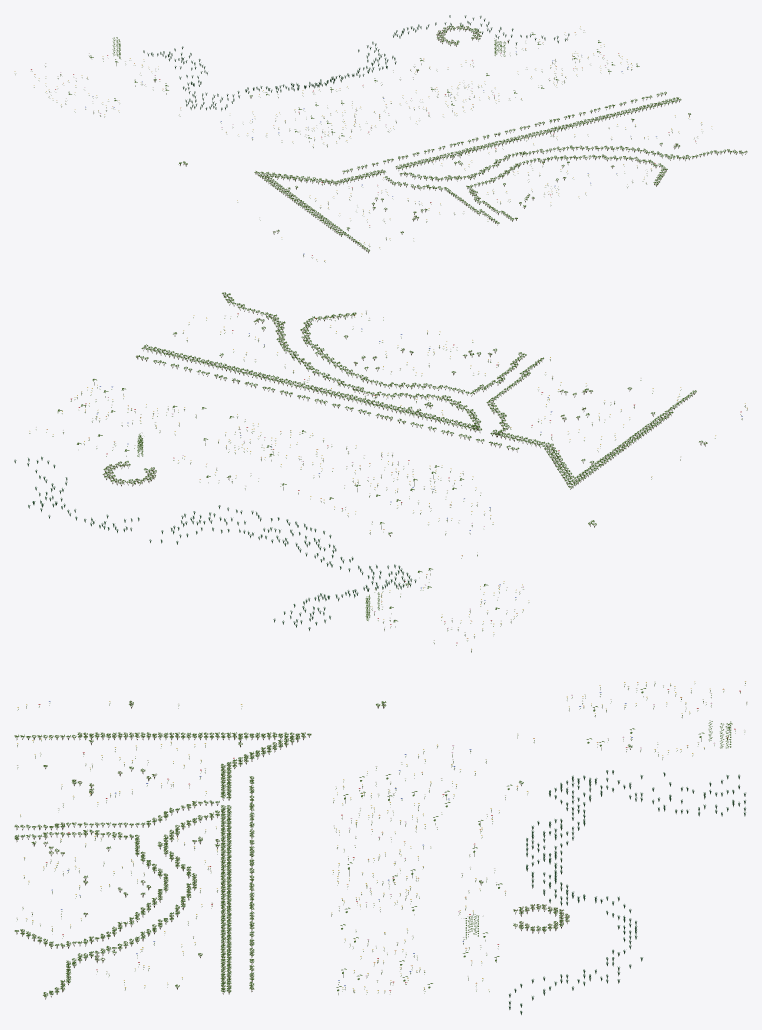
3 renders of one model, top to bottom at view 1: azimuth 30°, elevation 25°; view 2: azimuth 150°, elevation 25°; view 3: azimuth 270°, elevation 25°, orthographic. The views are drawn at different scales.
Visible parts, largest first — view 1: GROUND_FLORA_s_-8_2; view 2: GROUND_FLORA_s_-8_2; view 3: GROUND_FLORA_s_-8_2.
Boxes of the visible parts, x1=… form: GROUND_FLORA_s_-8_2: x1=14, y1=15, x2=747, y2=262; GROUND_FLORA_s_-8_2: x1=14, y1=292, x2=747, y2=652; GROUND_FLORA_s_-8_2: x1=14, y1=681, x2=747, y2=1014.
Bounding box in the file's own units: 128 × 9 × 128.
